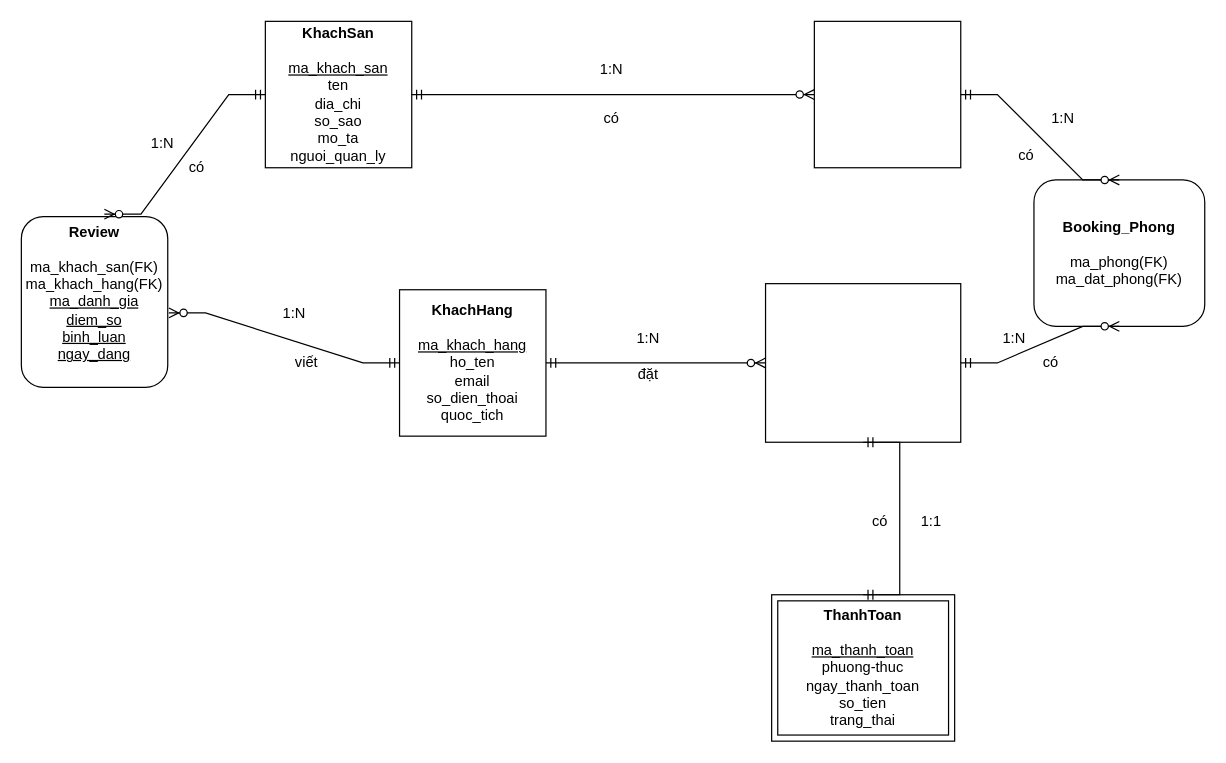
This 1226x763 diagram has some shape labels left out. The shapes that lost their labels are listed below. From the top down, each one's centre as x and y in pixels, then its label:
point (887, 94): Phong ma_phong loai_phong gia_moi_dem tinh_trang suc_chua
point (862, 362): B ooking ma_dat_phong ngay_dat ngay_nhan ngay_tra tong_tien trang_thai
